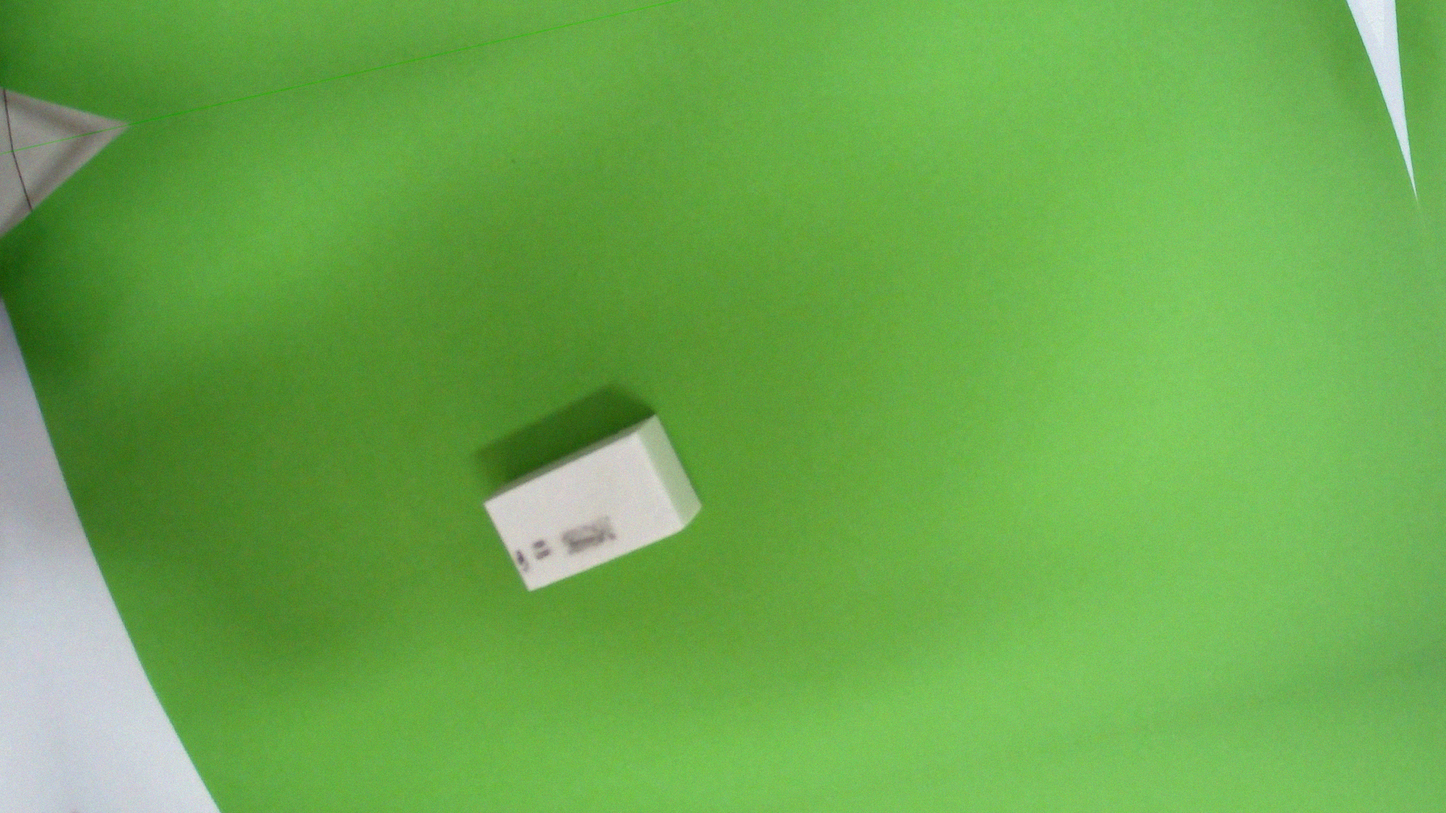gom: (474, 402, 712, 604)
